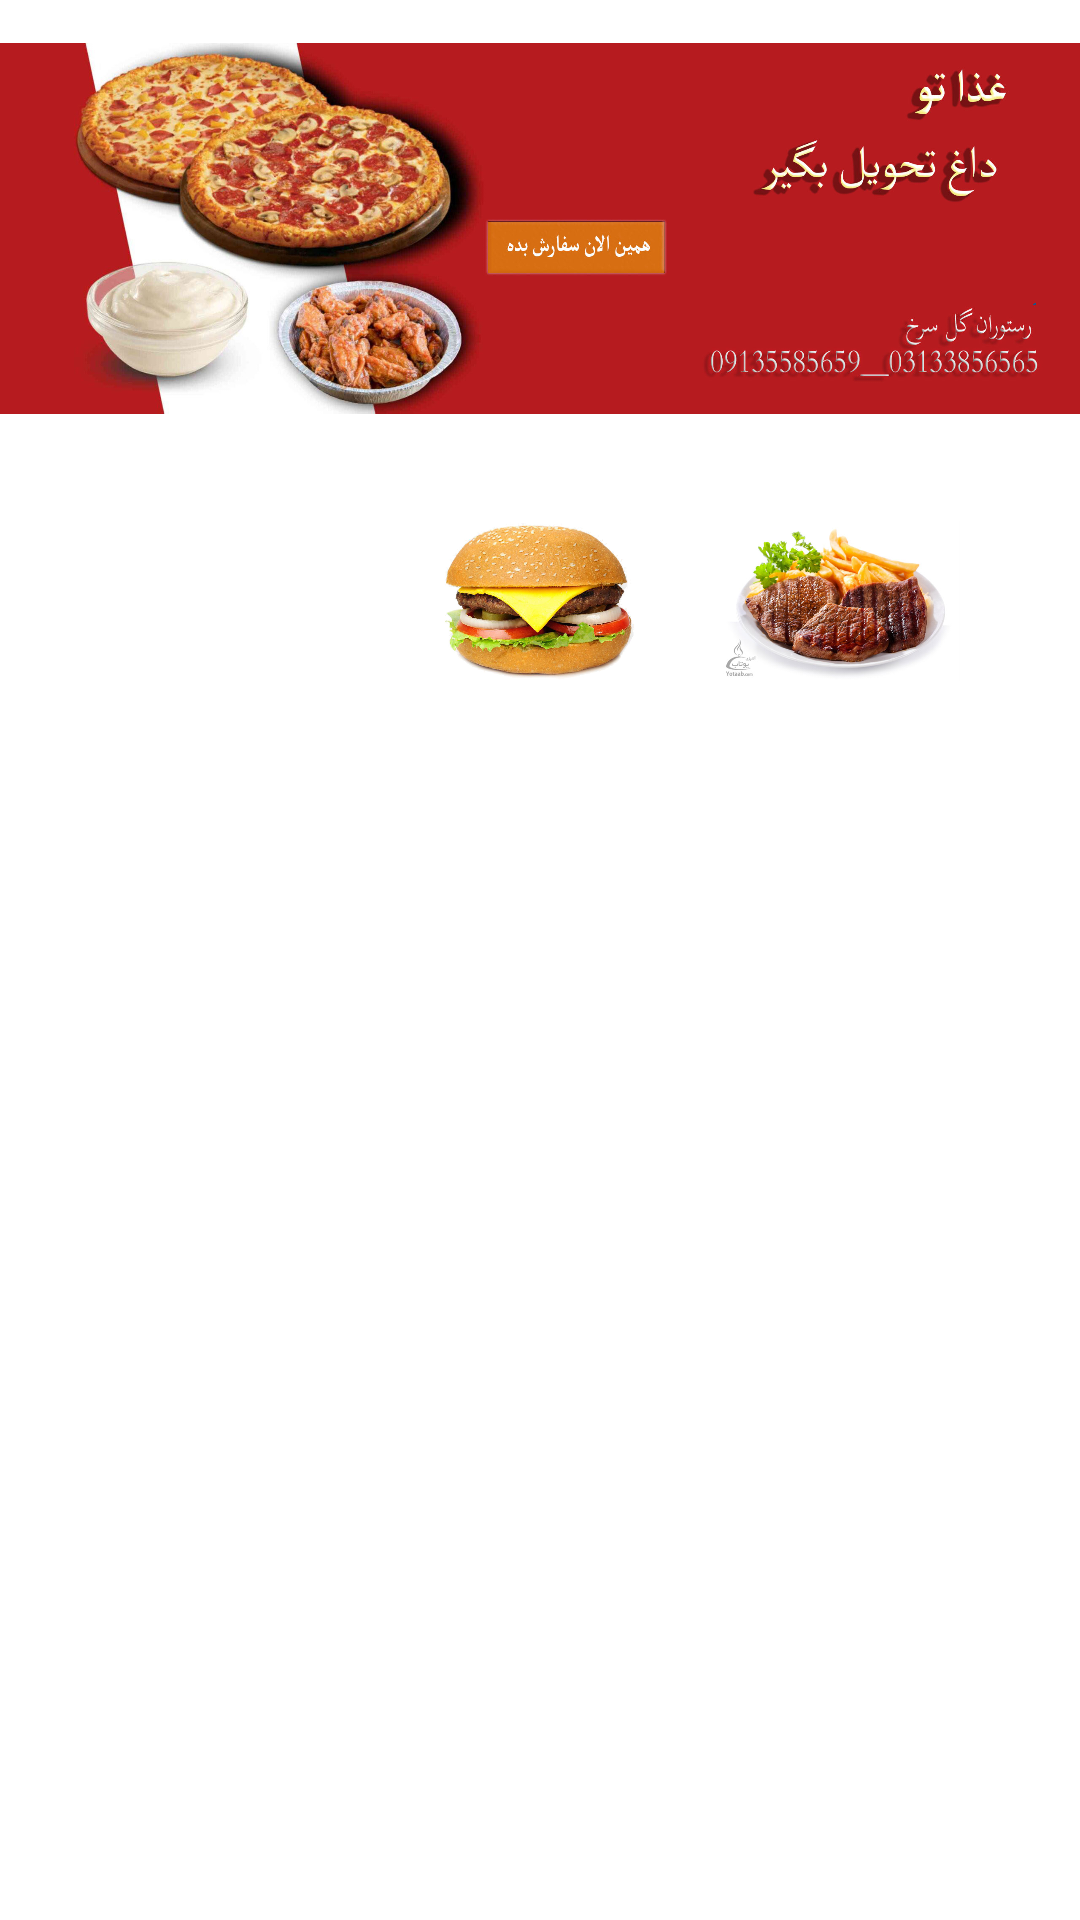

Where to tap for icons on this 1080px×1920px app screen, as (x=x, y=y):
astaik: (x=835, y=602)
berger: (x=538, y=601)
